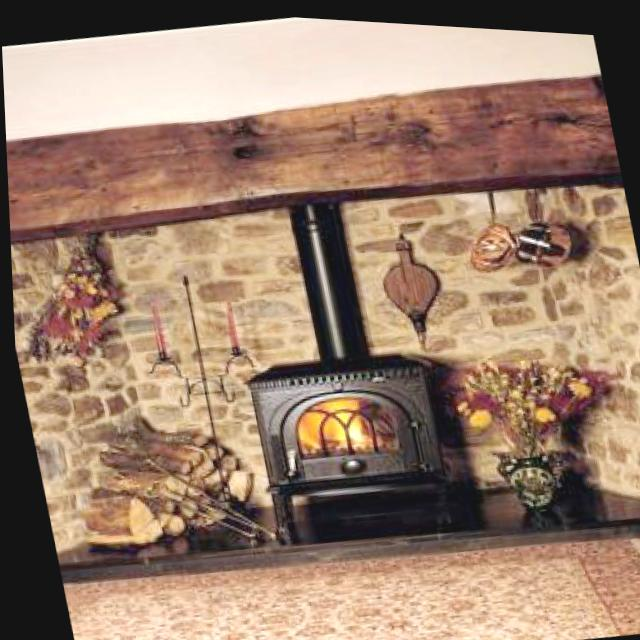helmet: (278, 384, 375, 459)
